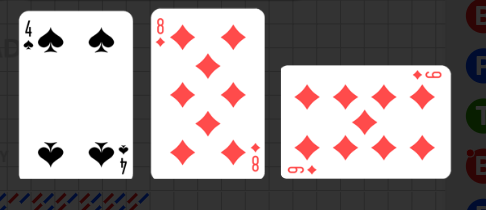4S: (23, 19, 36, 53)
9D: (286, 164, 319, 176), (411, 69, 443, 81)
